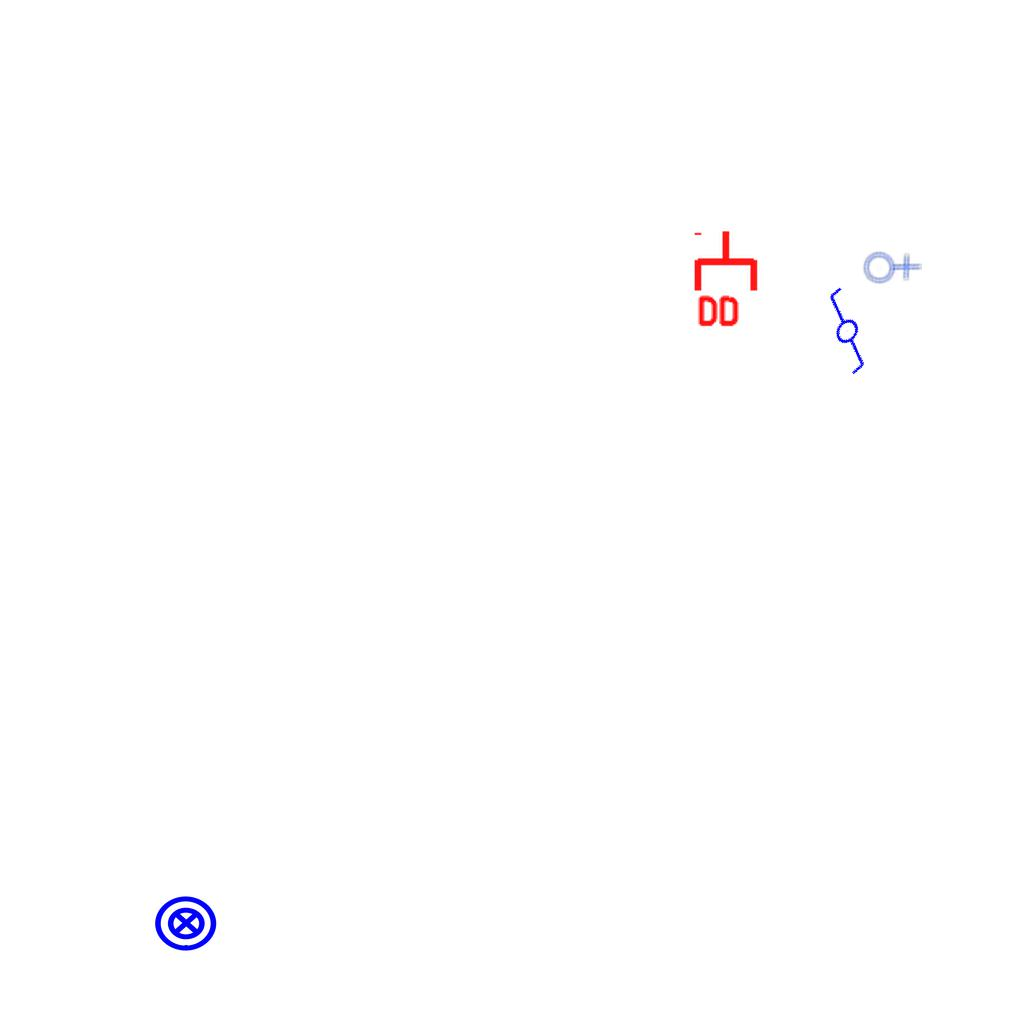Datenanschluss_zweifach: (693, 228, 762, 331)
Elektroanschluss_allgemein_230V_Geraeteanschlussdose_230V: (855, 231, 924, 300)
Taster_beleuchtet: (153, 890, 219, 956)
Wechselschalter: (792, 281, 896, 387)
